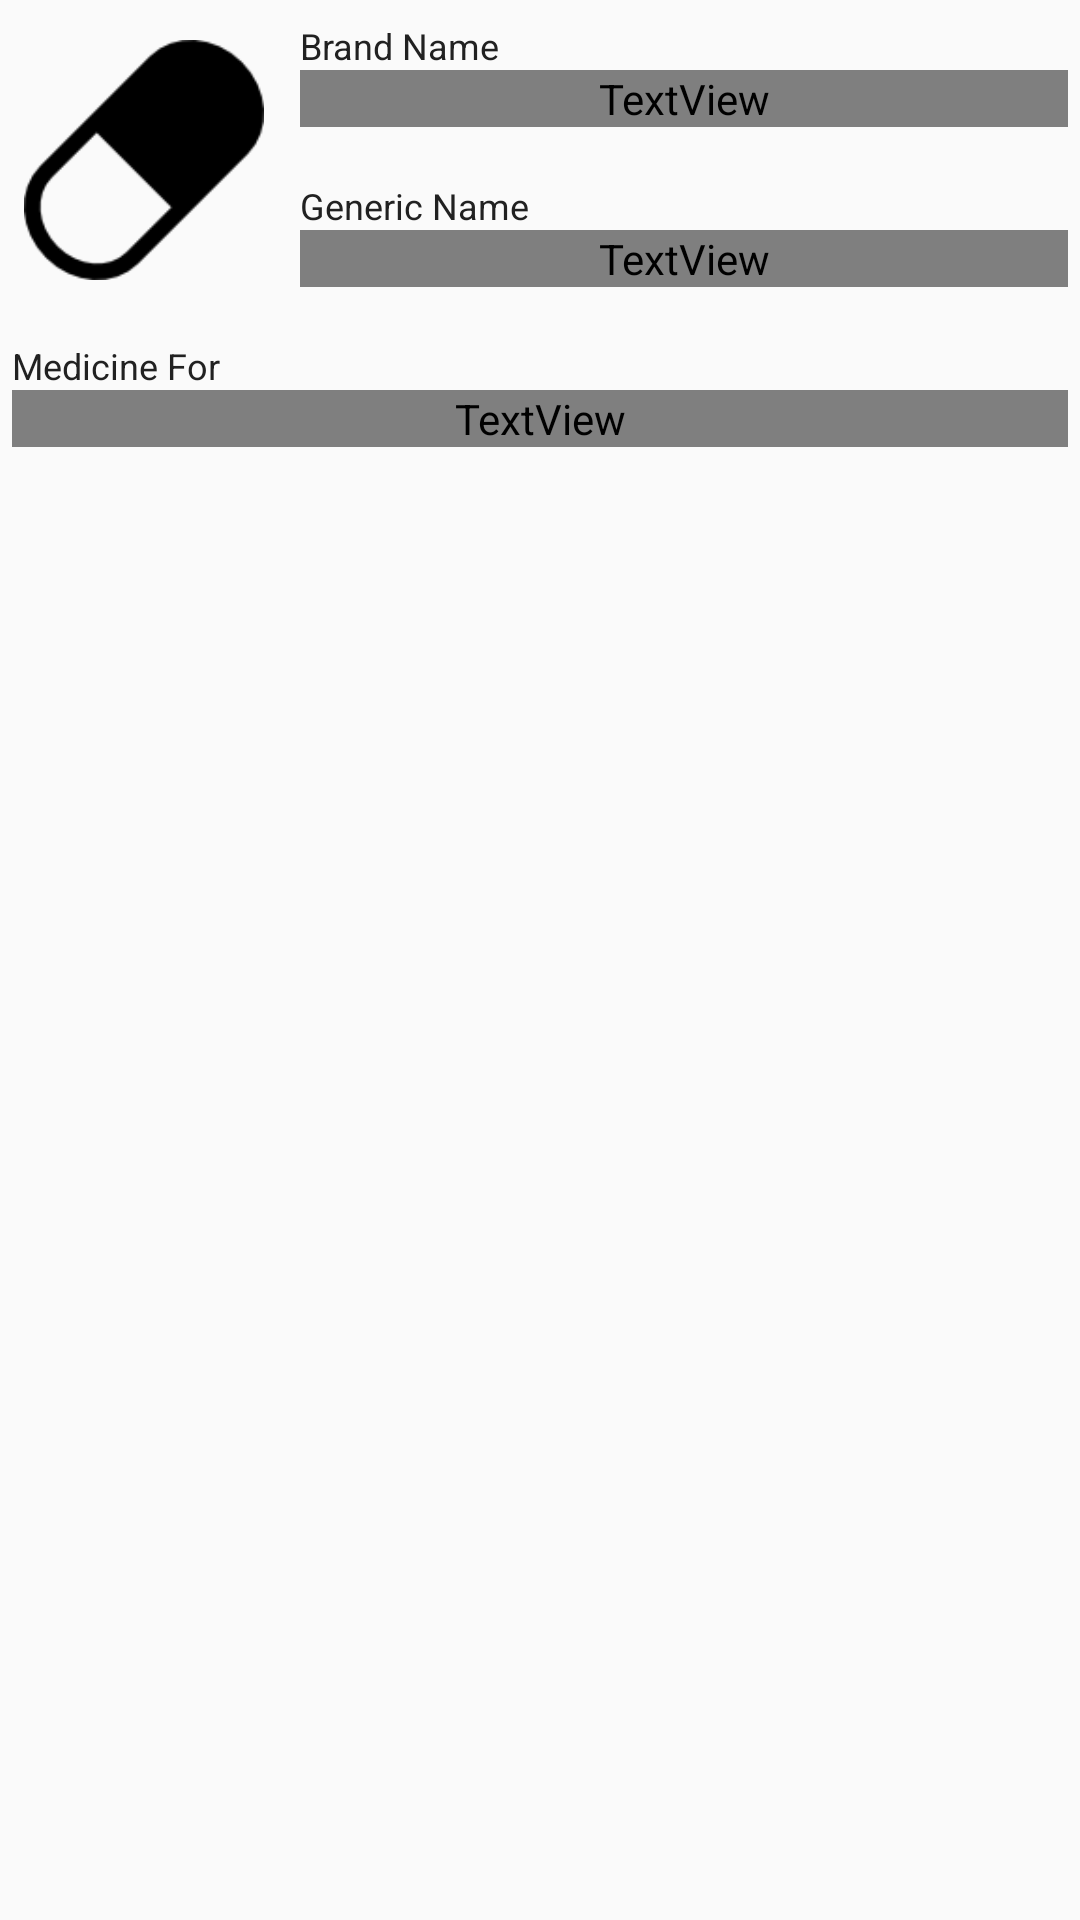

Where icons sit on this 1080px×1920px app screen, as (x1, y1, x2, y2):
pill capsule: (24, 40, 264, 280)
